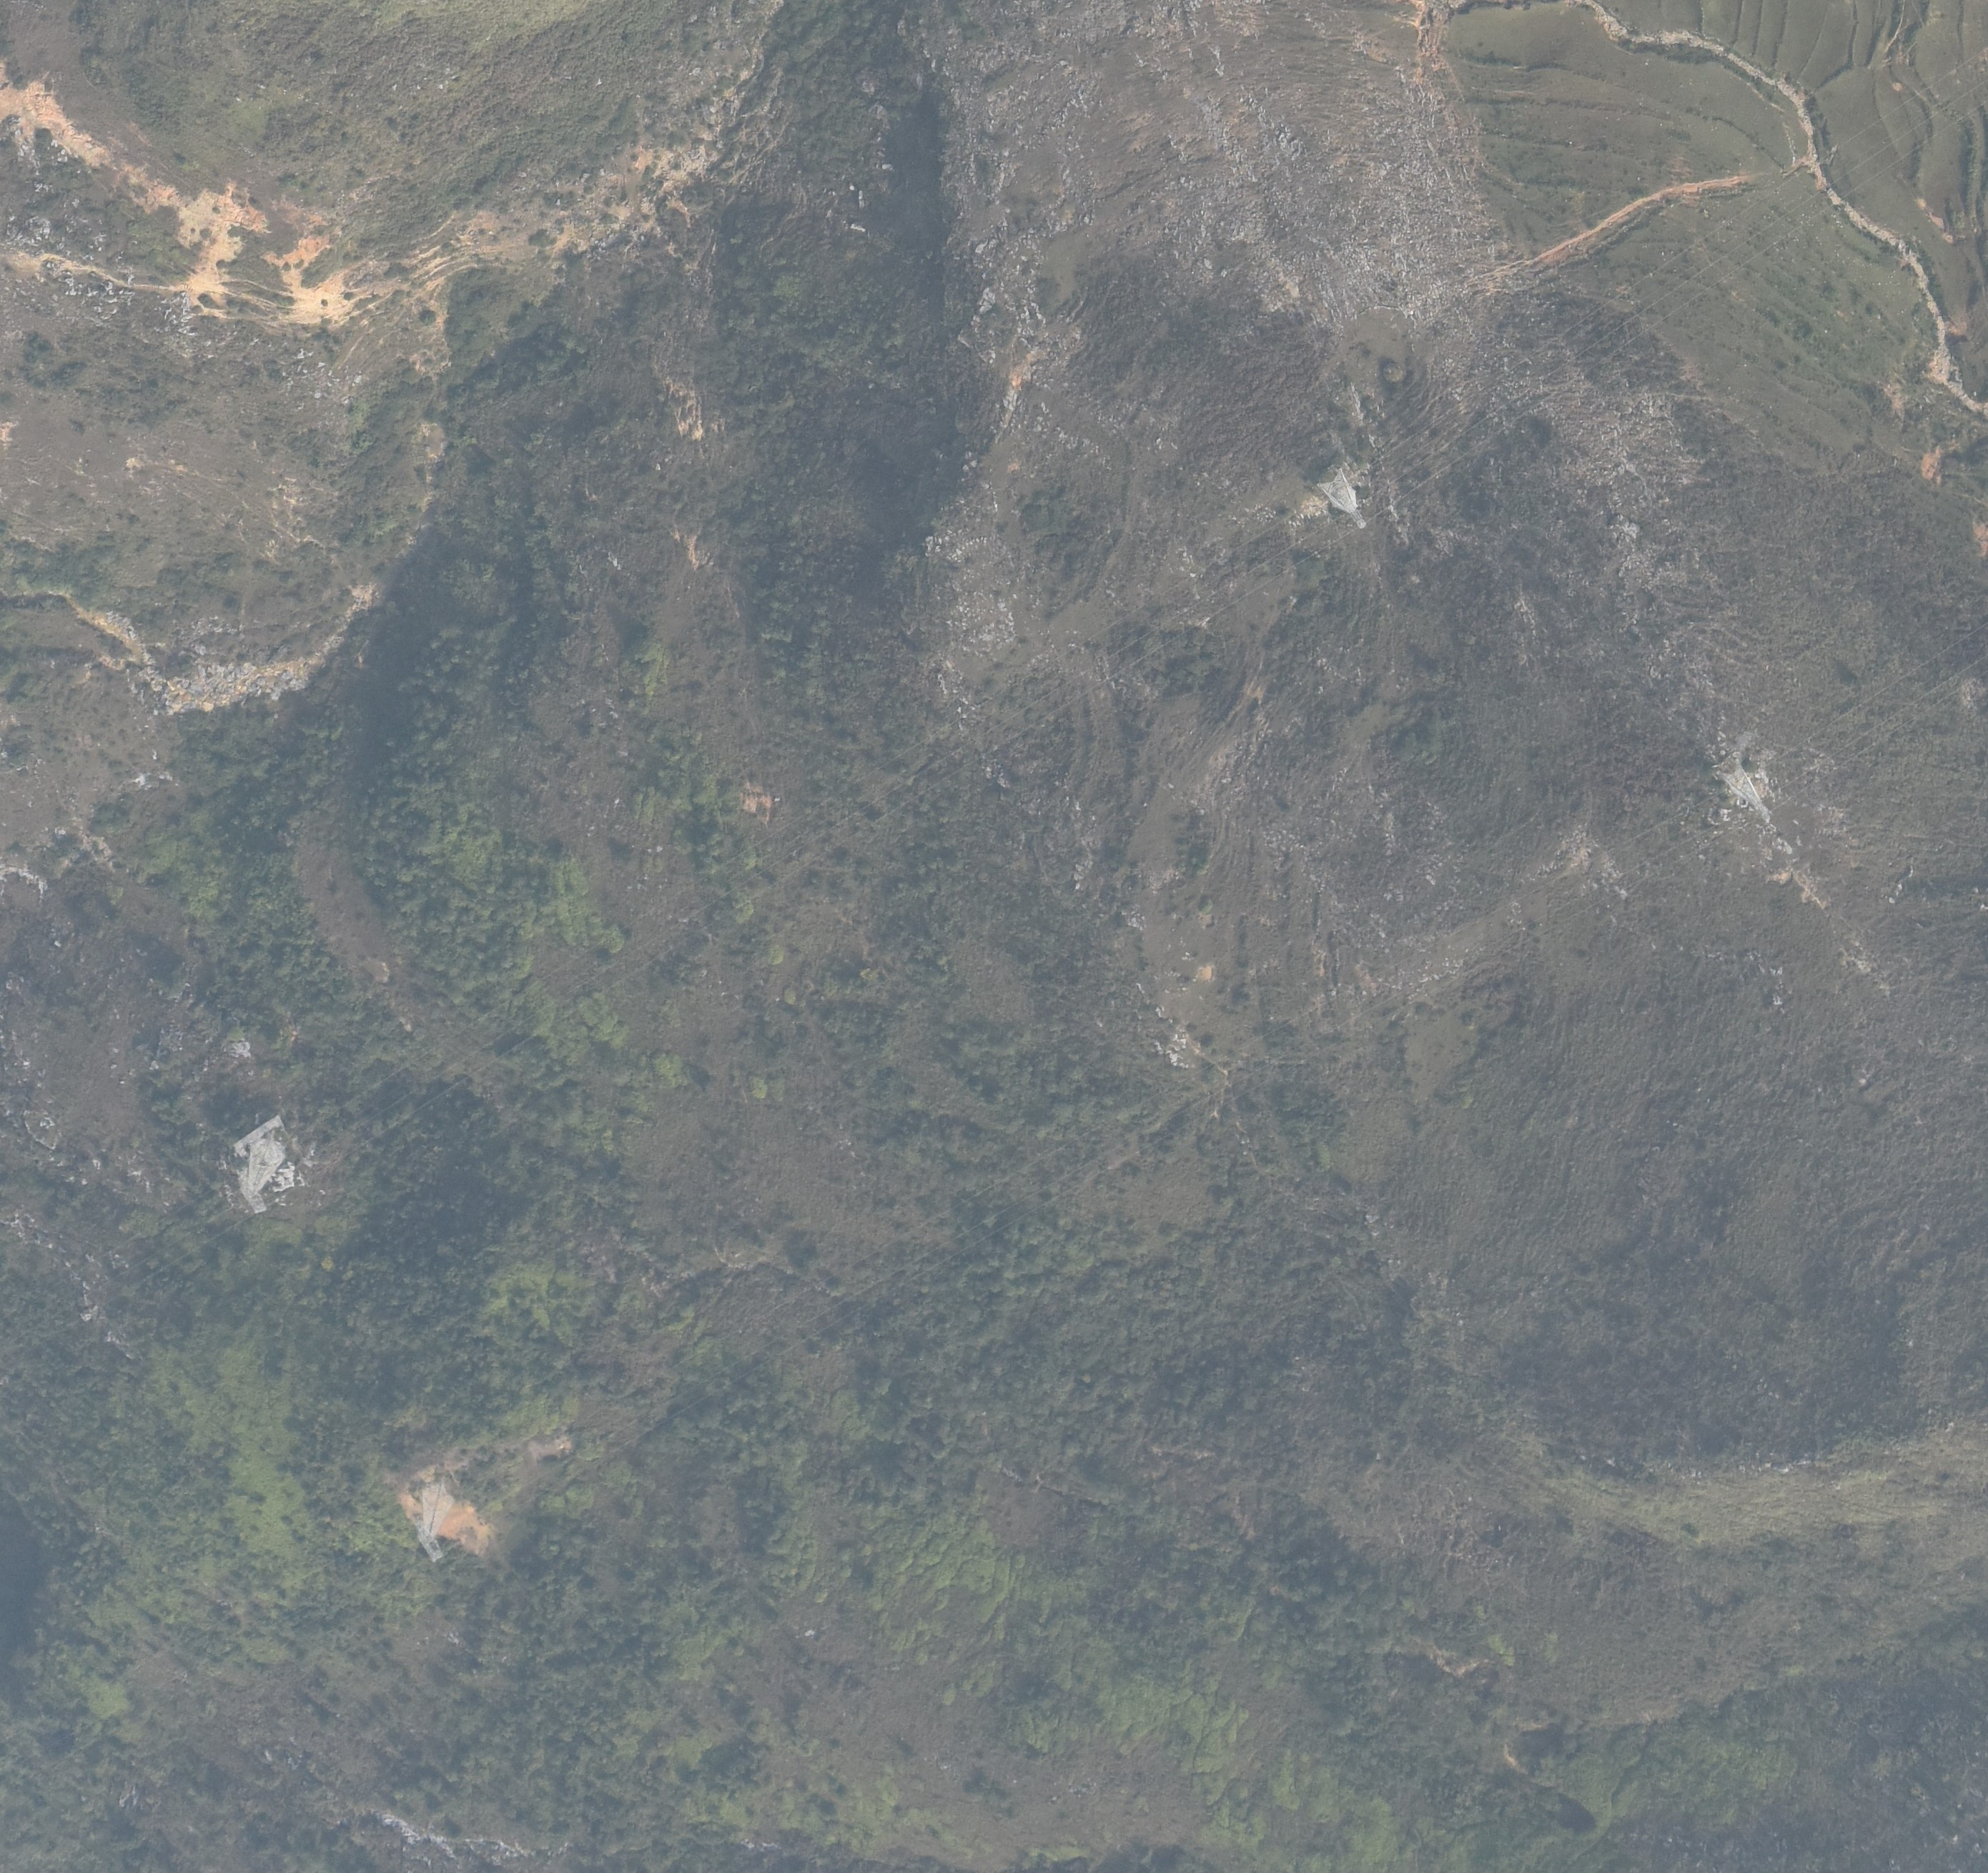cable-tower: (232, 1113, 292, 1213), (1713, 753, 1771, 823), (417, 1480, 456, 1563), (1317, 469, 1367, 530)
